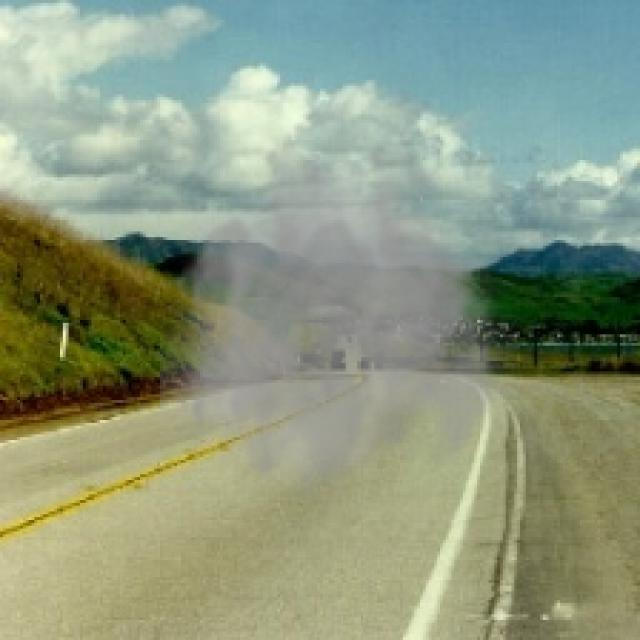smoke: (160, 134, 531, 506)
